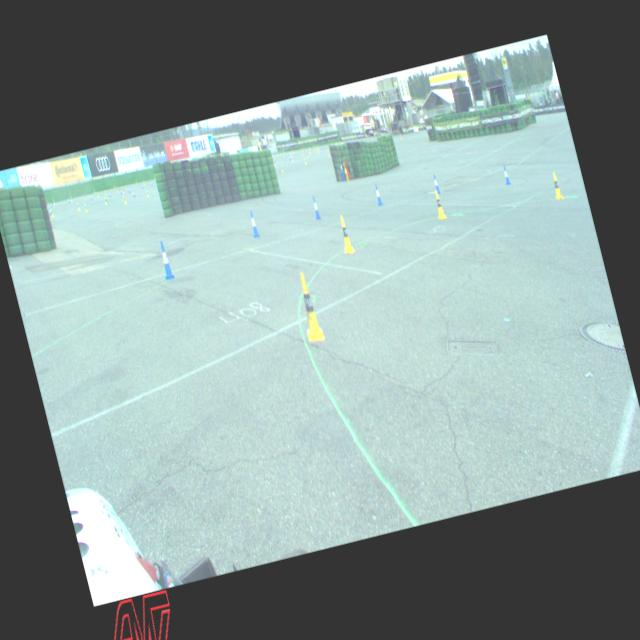blue_cone: (156, 238, 174, 280), (248, 210, 260, 238), (310, 195, 321, 219), (372, 182, 382, 205), (502, 164, 511, 184), (432, 174, 440, 194)
yellow_cone: (292, 270, 325, 342), (335, 214, 355, 254), (432, 190, 446, 220), (550, 172, 563, 200)
